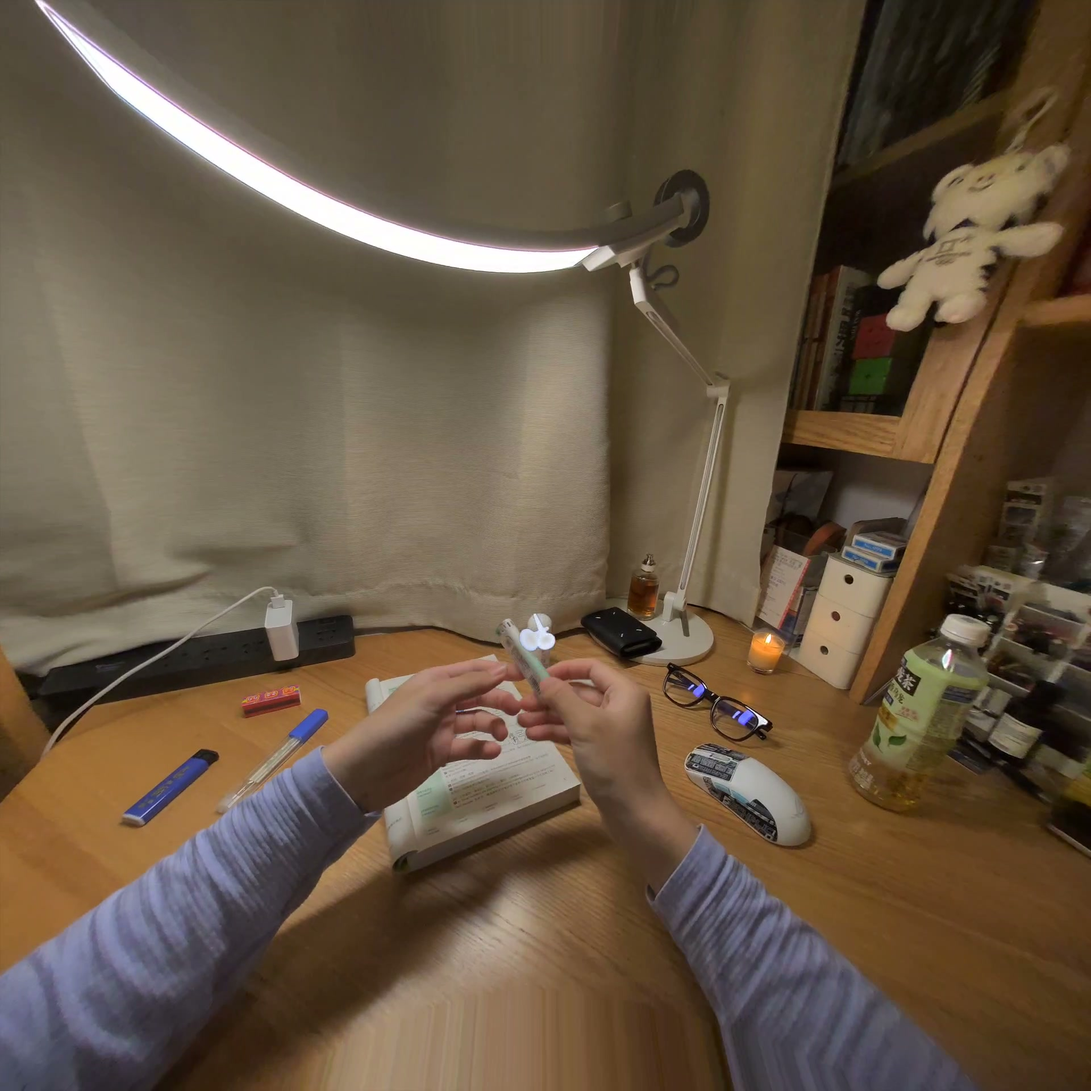lighter: (497, 619, 547, 696)
